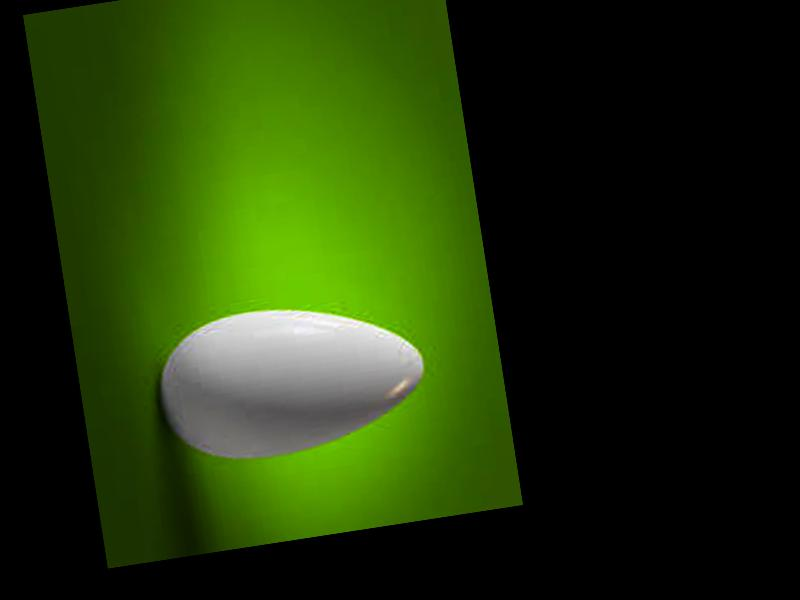Eggs: (151, 286, 437, 471)
